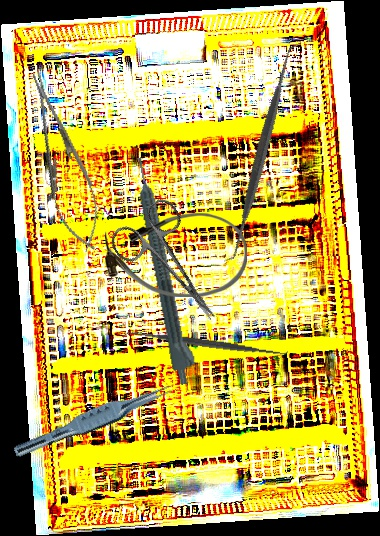Cannula: (105, 213, 247, 297)
Handpiece: (131, 154, 202, 386)
Iris Scissors: (105, 194, 241, 342)
Needle Holder: (15, 65, 112, 257)
Spatula Surgical: (153, 41, 372, 263), (122, 322, 289, 365)
Tissue Forceps: (12, 373, 177, 468)
